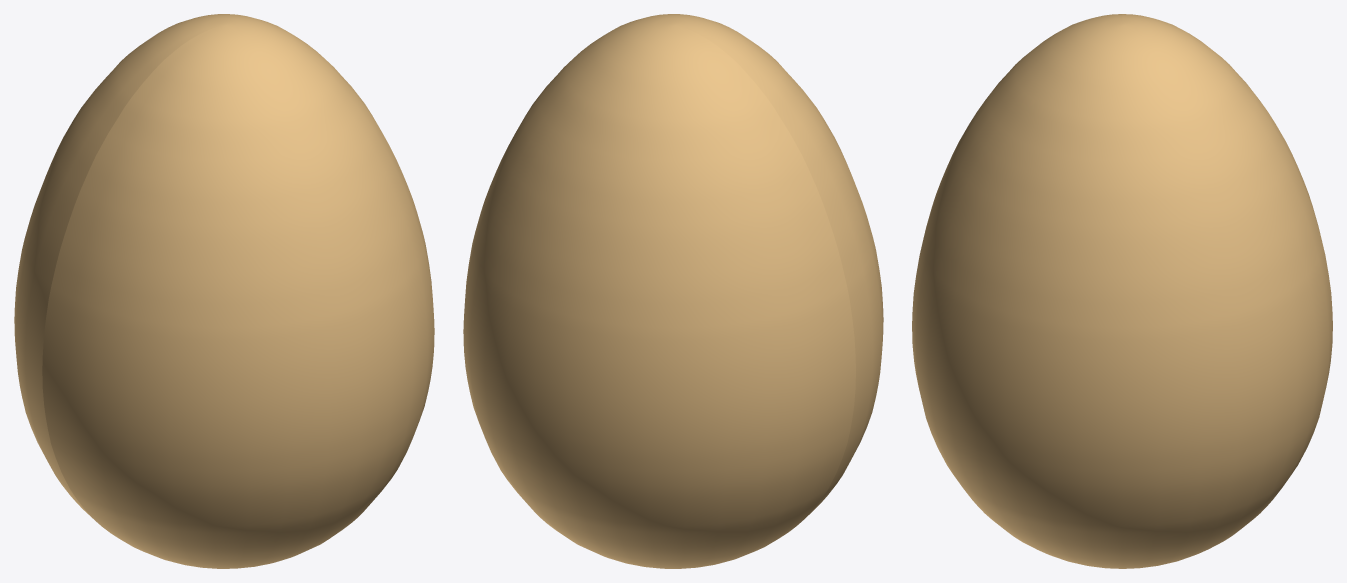
The model's file is egg.glb.
3 views of the same model, side by side, from view 1: azimuth 30°, elevation 25°; view 2: azimuth 150°, elevation 25°; view 3: azimuth 270°, elevation 25° (orthographic).
Parts seen in each view (by area): view 1: Egg; view 2: Egg; view 3: Egg.
Boxes of the visible parts, x1,y1,x2,y2 form: Egg: [14, 14, 434, 568]; Egg: [463, 14, 883, 568]; Egg: [912, 14, 1332, 568].
Bounding box in the file's own units: 3.86 × 5.32 × 3.86.
